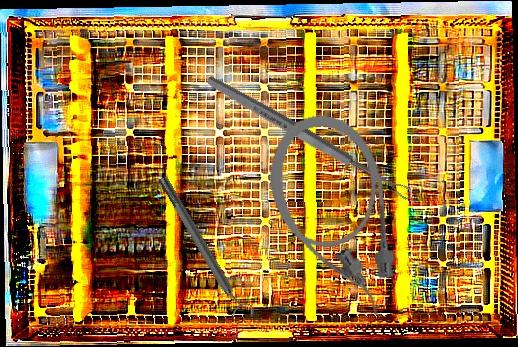Cannula: (256, 102, 413, 333)
Fixation Ring: (151, 170, 258, 327)
Surgical Spoon: (203, 72, 416, 204)
